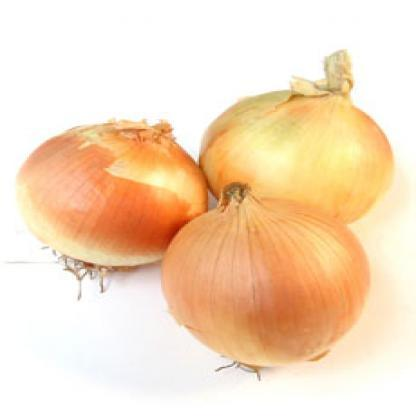onion: (160, 184, 382, 384), (14, 104, 200, 284), (214, 61, 398, 224)
